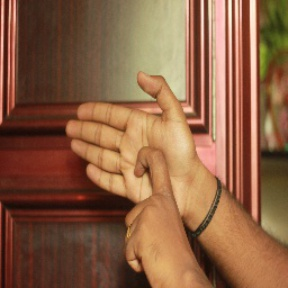R: (66, 69, 206, 267)
